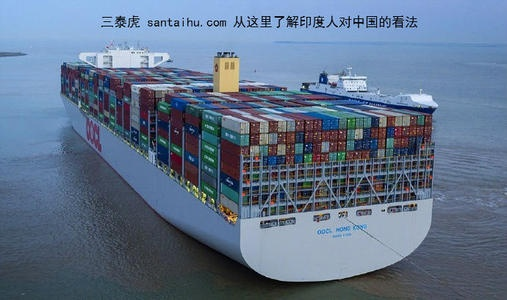Cargoship: (58, 33, 440, 283)
